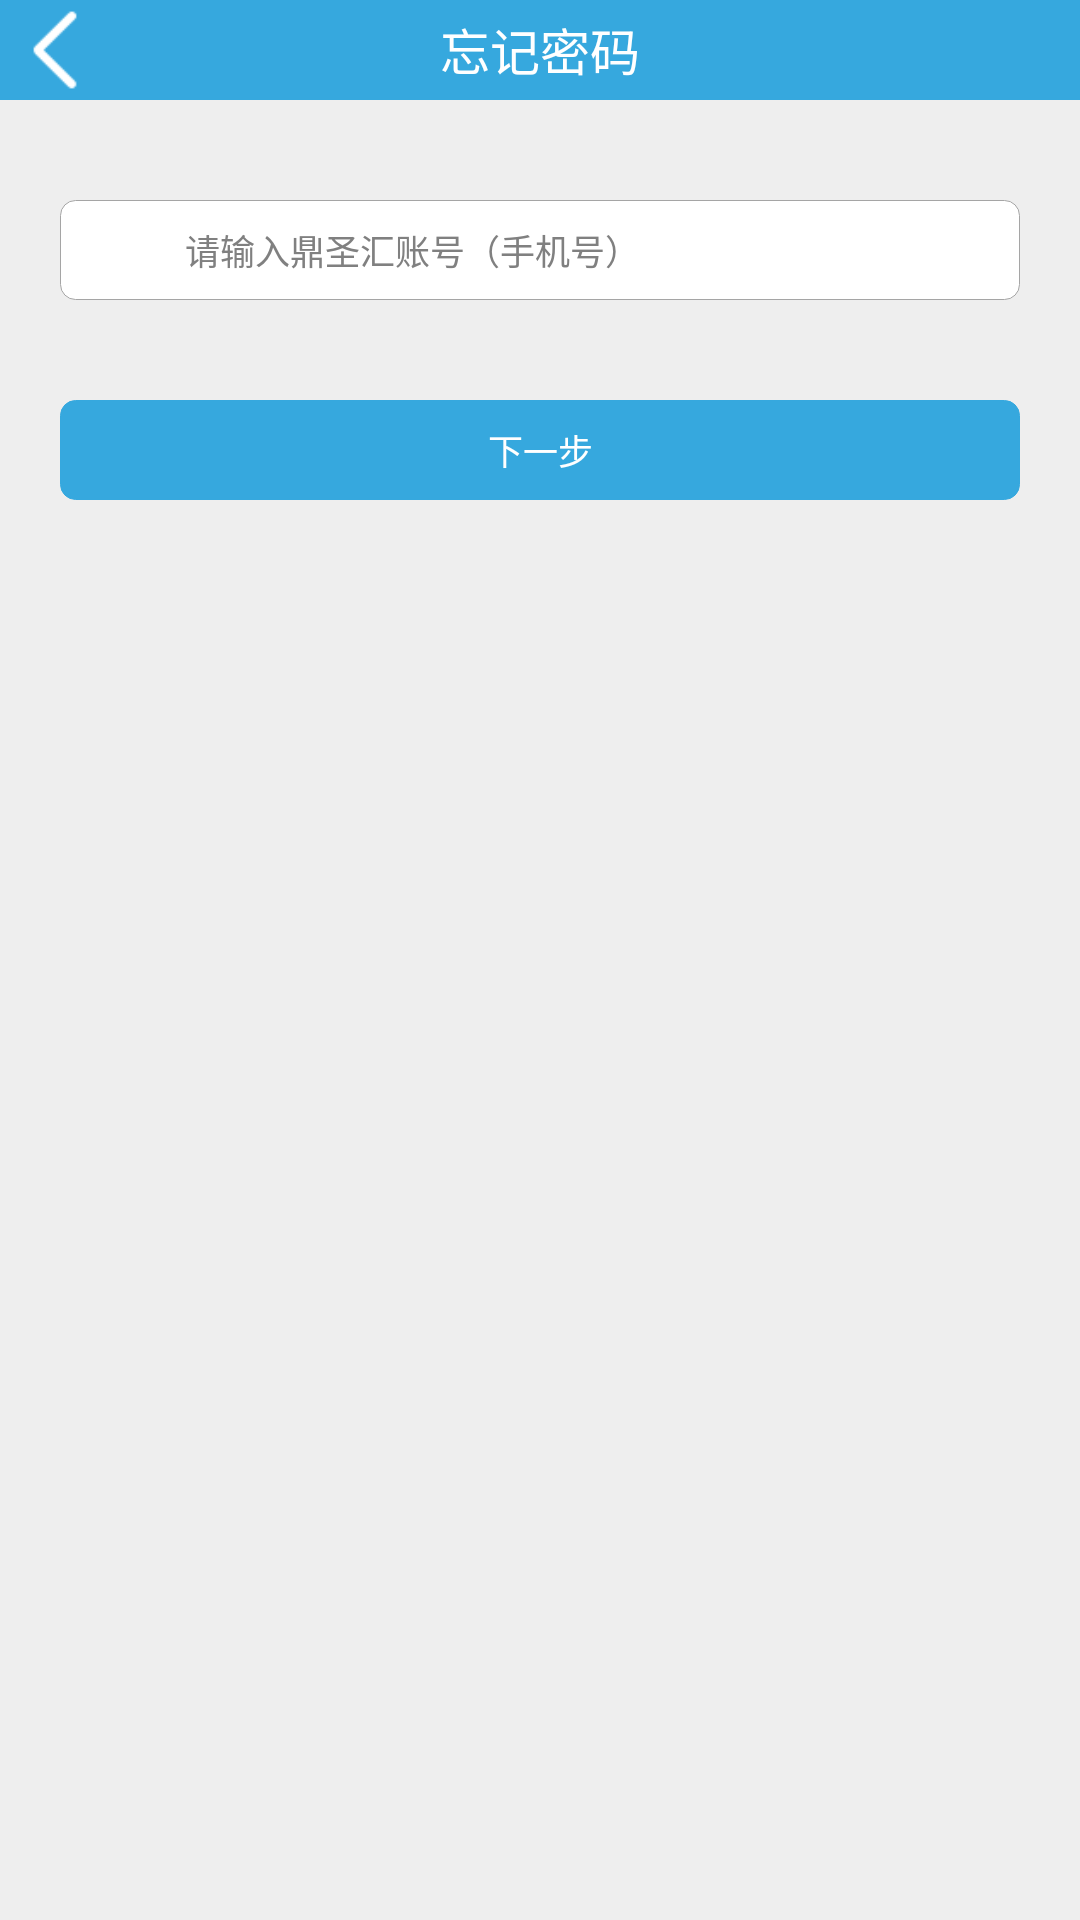

Icons on this 1080*1920 Android screen, each with its box as [x1,y1,x2,y2]:
leftarrowicon: [33,11,77,89]
